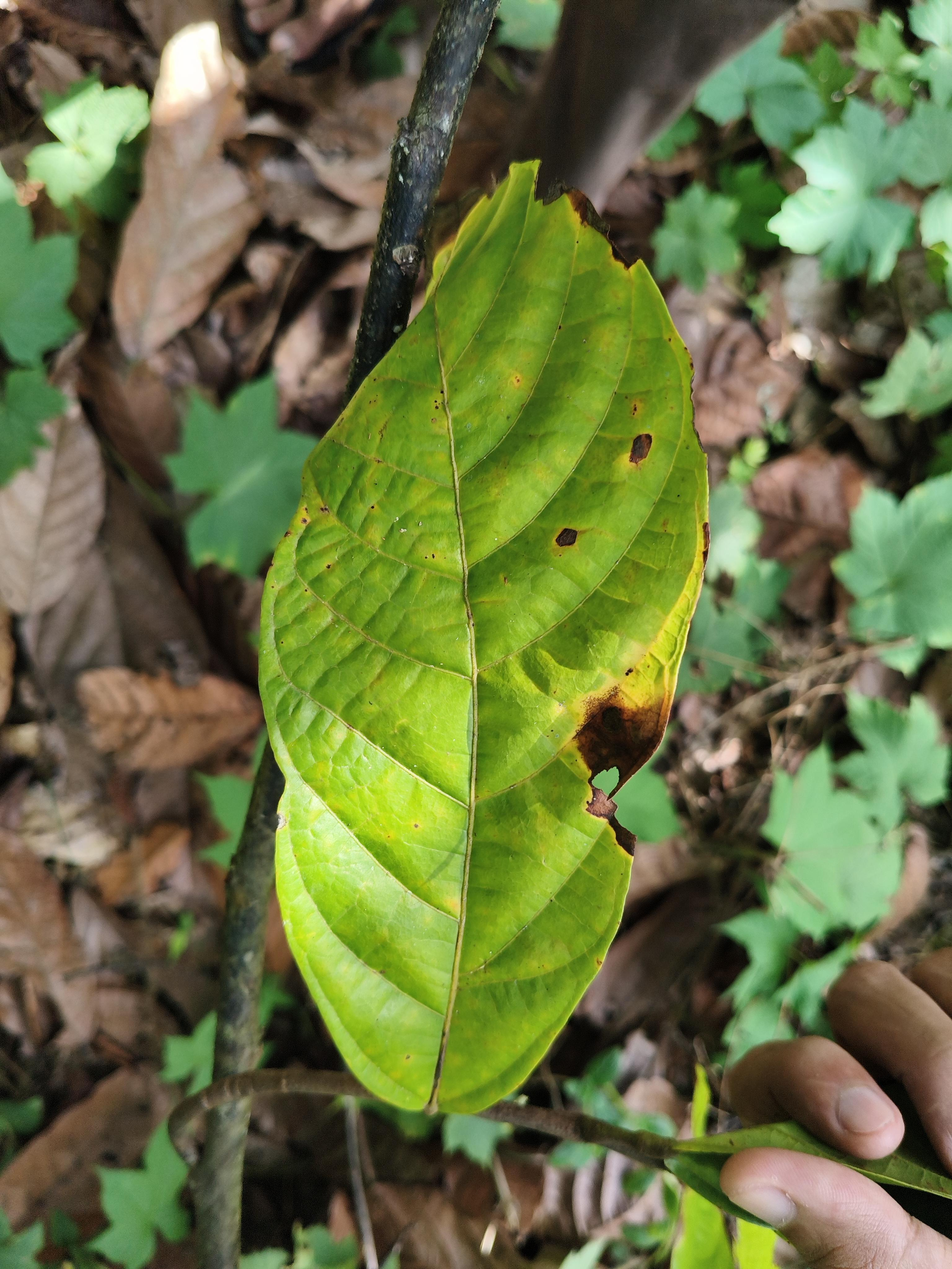deficiencia_potasio: (250, 157, 712, 1118)
